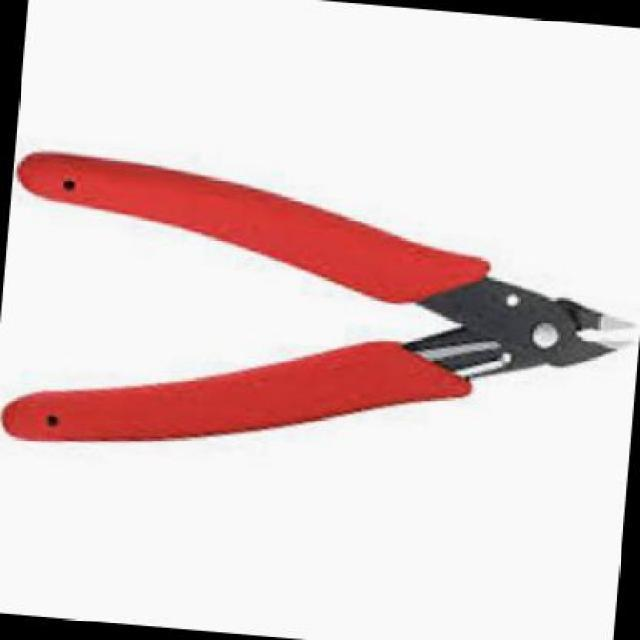pliers: (0, 104, 638, 510)
